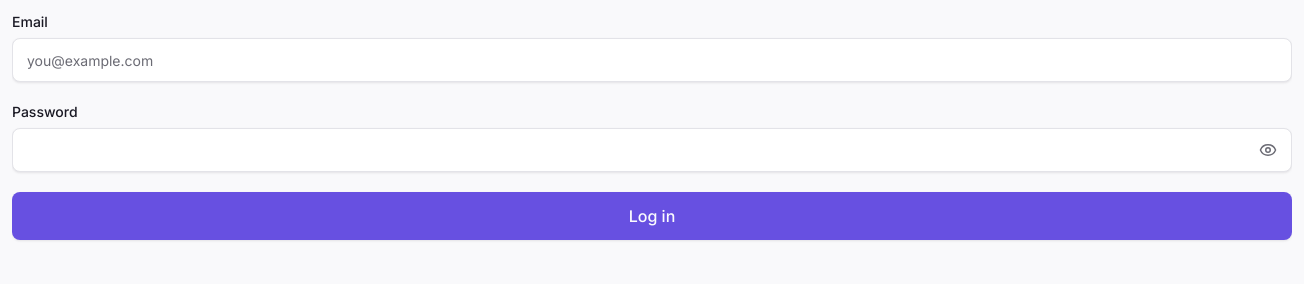
Test: LoginForm server errors › puts VALIDATION_ERROR issues on the matching field
Step 1. Type "jane@example.com" into the field labelled "Email" → coordinates (652, 60), box [12, 38, 1292, 82]
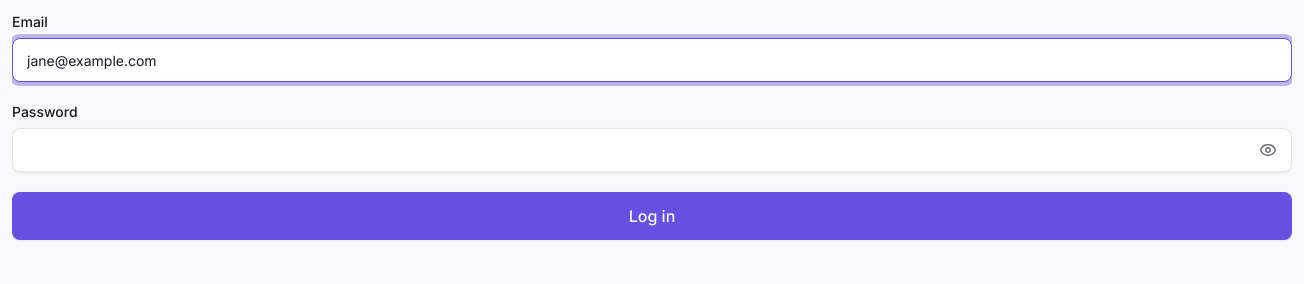
Step 2. Type "long-enough-password" into the password field labelled "Password" → coordinates (652, 150), box [12, 128, 1292, 172]
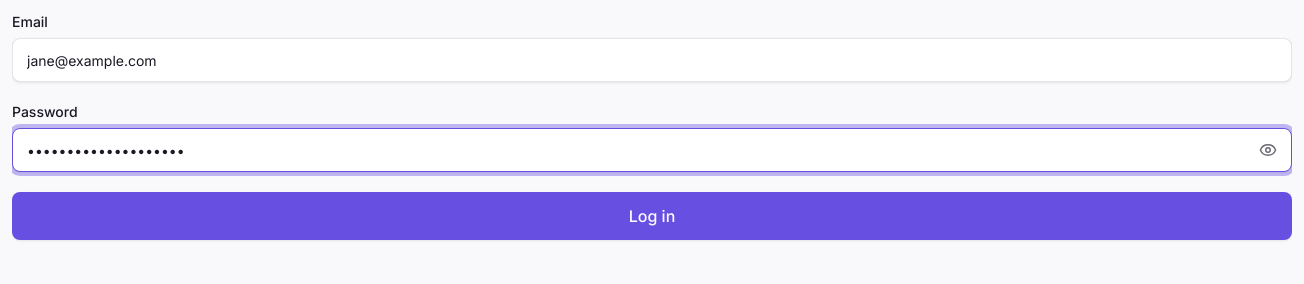
Step 3. Click the button "Log in" → coordinates (652, 216), box [12, 192, 1292, 240]
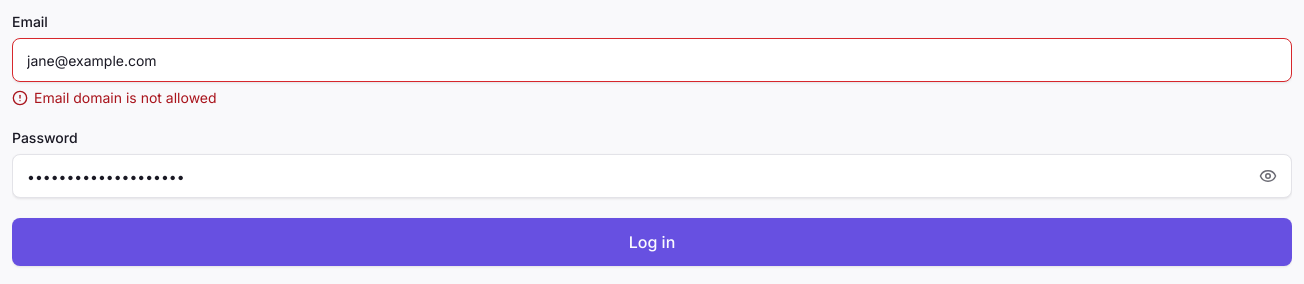
expect the text "Email domain is not allowed" is shown: met, box [34, 88, 217, 108]
